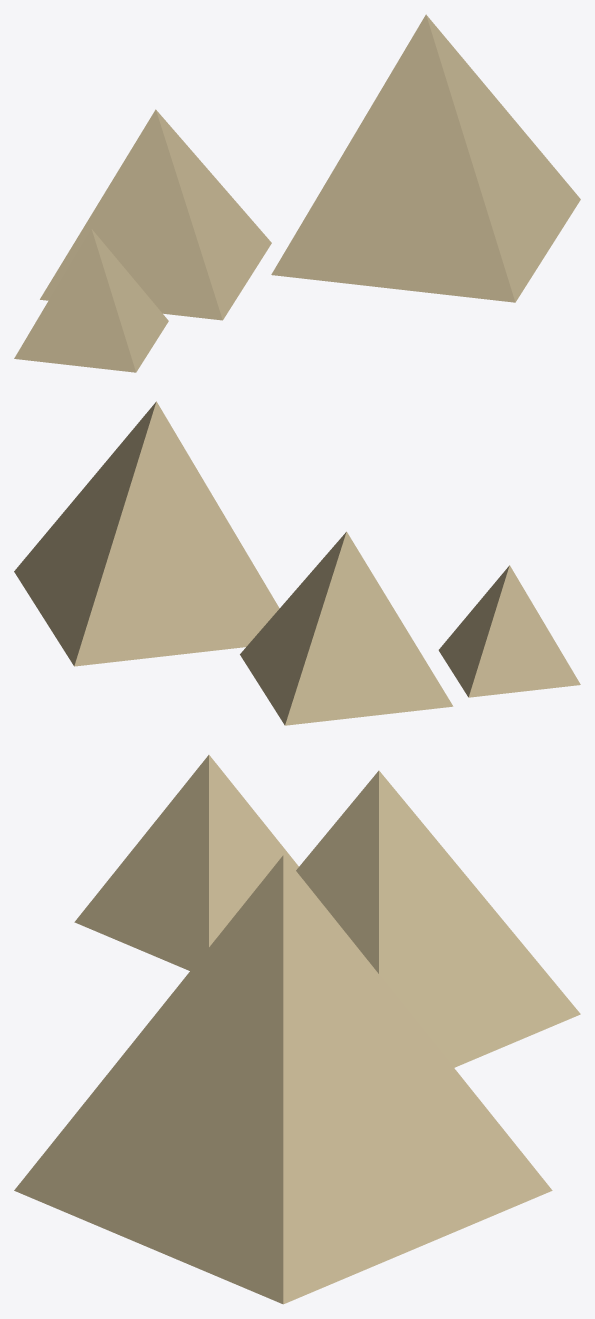
The picture shows the model from 3 angles, top to bottom: view 1: azimuth 30°, elevation 25°; view 2: azimuth 150°, elevation 25°; view 3: azimuth 270°, elevation 25°; orthographic projection. The views are drawn at different scales.
Parts seen in each view (by area): view 1: part0, part1, part2; view 2: part0, part1, part2; view 3: part0, part1, part2.
Boxes of the visible parts, bbox=[...] form: part0: bbox=[271, 14, 580, 302]; part1: bbox=[40, 109, 271, 320]; part2: bbox=[14, 229, 168, 372]; part0: bbox=[14, 401, 279, 666]; part1: bbox=[240, 531, 453, 725]; part2: bbox=[438, 565, 580, 697]; part0: bbox=[14, 855, 552, 1304]; part1: bbox=[296, 770, 580, 1067]; part2: bbox=[74, 755, 298, 970].
Size of the model in its own units: 6.11 by 2.2 by 3.37.
